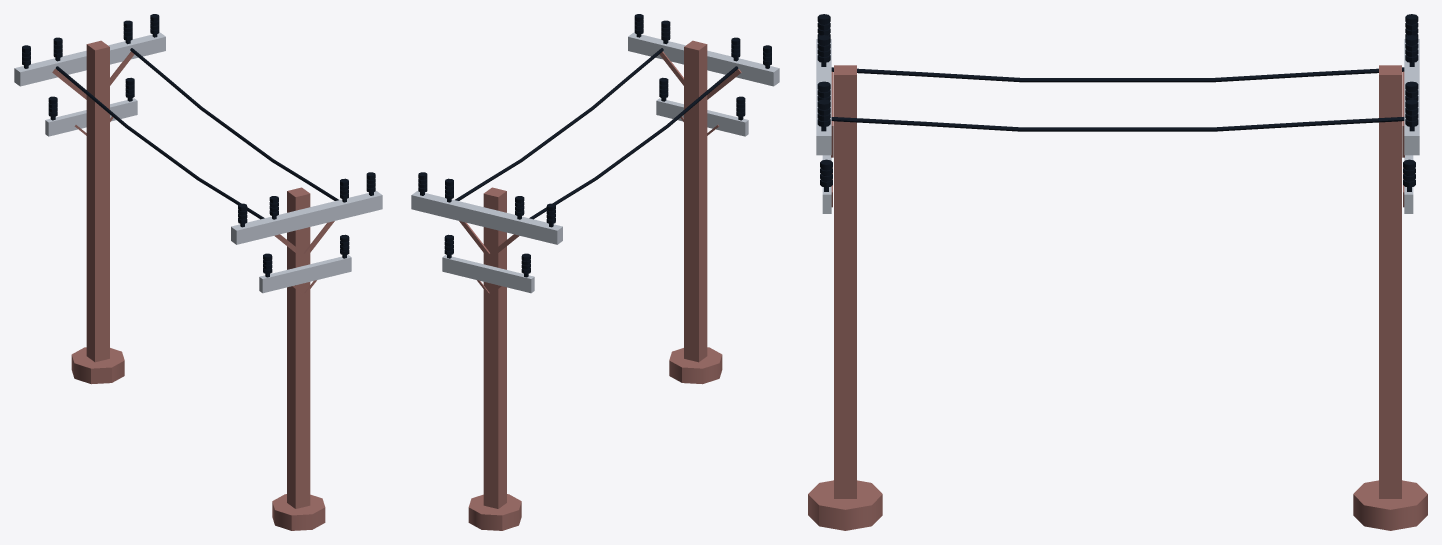
The model's file is electrical-pole-duo.fbx.
3 views of the same model, side by side, from view 1: azimuth 30°, elevation 25°; view 2: azimuth 150°, elevation 25°; view 3: azimuth 270°, elevation 25° (orthographic). The views are drawn at different scales.
Visible parts, largest first — view 1: 7. electrical-pole-duo; view 2: 7. electrical-pole-duo; view 3: 7. electrical-pole-duo.
Part boxes in pixels (box(x1,y1,x2,y2)): 7. electrical-pole-duo: box(14, 14, 382, 530); 7. electrical-pole-duo: box(411, 14, 779, 530); 7. electrical-pole-duo: box(808, 14, 1427, 530).
Size of the model in its own units: 2.56 by 5.63 by 6.94.
